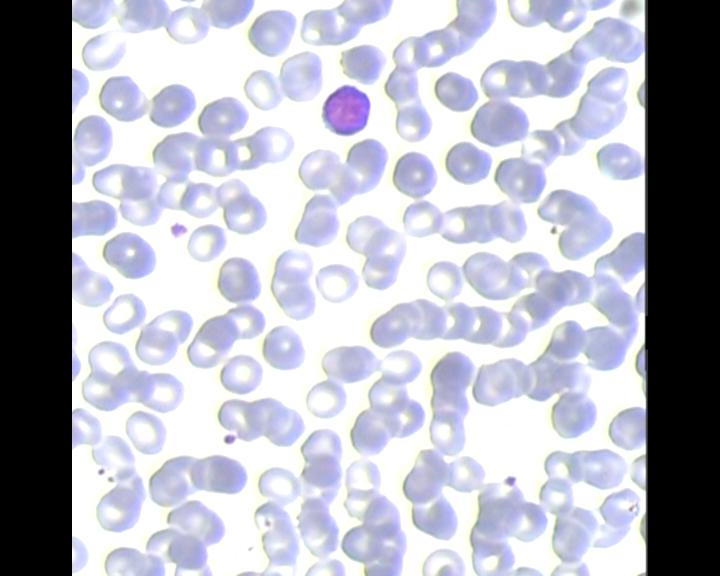lymp: (319, 82, 375, 140)
